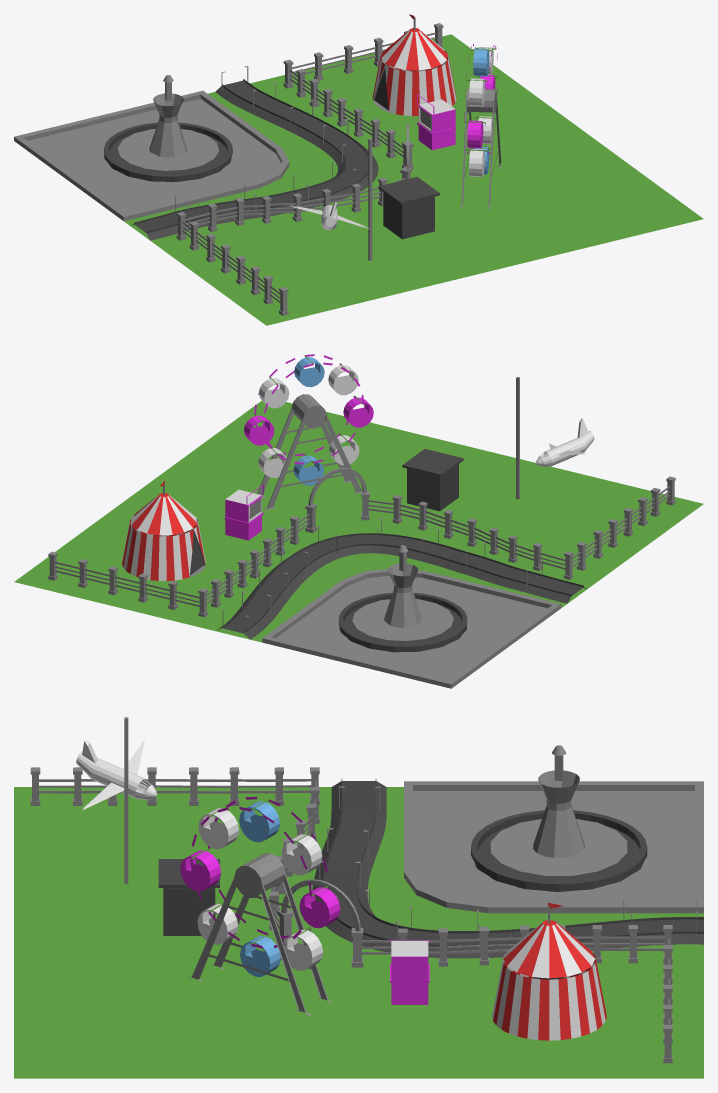
3 views of the same model, one above another, from view 1: azimuth 30°, elevation 25°; view 2: azimuth 150°, elevation 25°; view 3: azimuth 270°, elevation 25° (orthographic). The views are drawn at different scales.
Parts seen in each view (by area): view 1: Cube.004, Cube.002, Cube.001; view 2: Cube.004, Cube.002, Cube.001; view 3: Cube.004, Cube.002, Cube.001.
Part boxes in pixels (bbox=[...]): Cube.004: bbox=[14, 14, 703, 325]; Cube.002: bbox=[131, 79, 378, 240]; Cube.001: bbox=[372, 28, 456, 115]; Cube.004: bbox=[14, 354, 703, 688]; Cube.002: bbox=[216, 533, 586, 639]; Cube.001: bbox=[122, 493, 205, 580]; Cube.004: bbox=[14, 717, 703, 1078]; Cube.002: bbox=[312, 779, 703, 958]; Cube.001: bbox=[493, 920, 606, 1040].
Size of the model in its own units: 20001 by 6113 by 20000.
